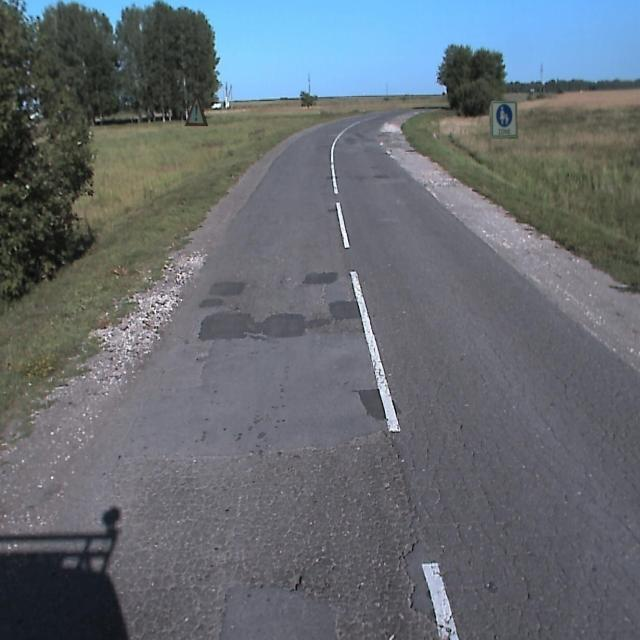road: (0, 111, 639, 639)
